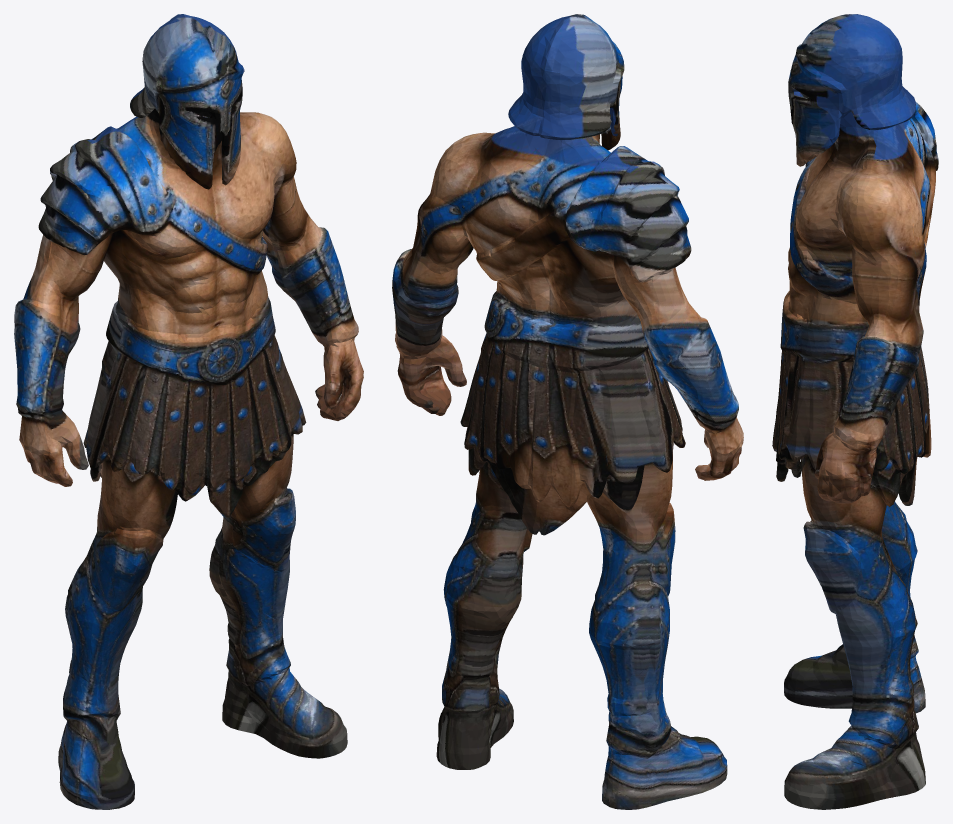
File: enemy.glb
3 renders of one model, left to right at view 1: azimuth 30°, elevation 25°; view 2: azimuth 150°, elevation 25°; view 3: azimuth 270°, elevation 25°, orthographic.
Parts seen in each view (by area): view 1: geometry_0; view 2: geometry_0; view 3: geometry_0.
Part boxes in pixels (<box>): geometry_0: <box>14,14,363,809</box>; geometry_0: <box>392,14,743,809</box>; geometry_0: <box>772,14,938,809</box>.
Size of the model in its own units: 0.9412 by 1.99 by 0.4094.
Materials: 1 (1 with a texture image).
